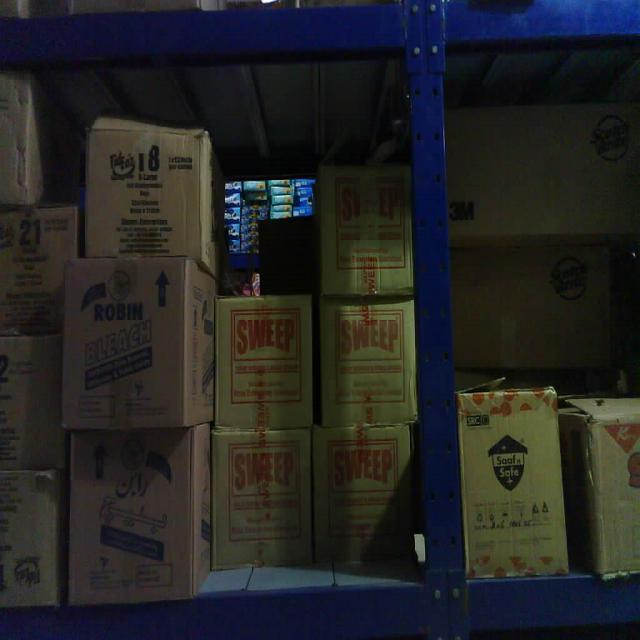cardboxes: (64, 421, 197, 612), (60, 257, 194, 433), (460, 386, 562, 584), (80, 121, 212, 263), (214, 292, 318, 434), (316, 427, 418, 570), (213, 429, 315, 571), (316, 160, 414, 300), (316, 298, 420, 428), (1, 202, 82, 340), (0, 464, 64, 612), (0, 340, 63, 466)
